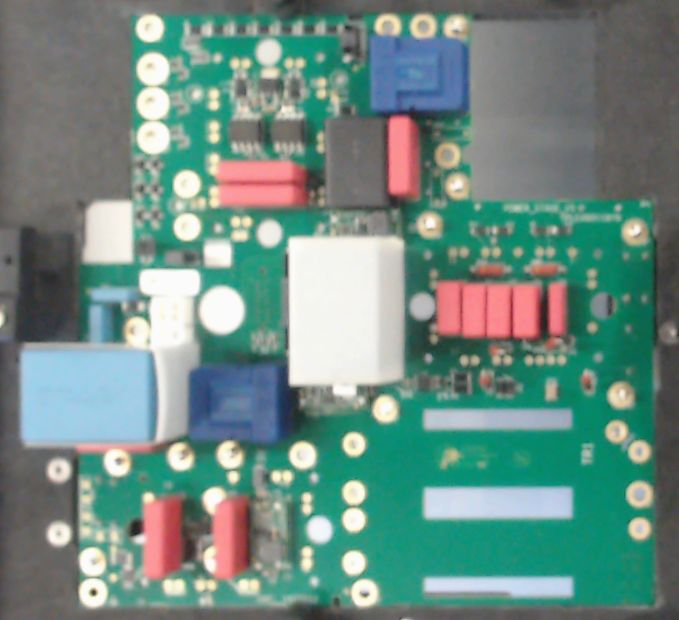comp1: (187, 363, 294, 443), (369, 35, 471, 116)
comp2: (385, 114, 425, 204), (143, 497, 184, 579), (214, 495, 250, 577), (218, 159, 305, 184), (217, 185, 308, 207), (512, 282, 540, 341), (461, 280, 487, 340), (486, 282, 511, 342), (436, 281, 462, 338), (547, 281, 567, 338)
comp3: (321, 114, 390, 209)
comp4: (19, 341, 199, 447), (286, 234, 405, 387)
